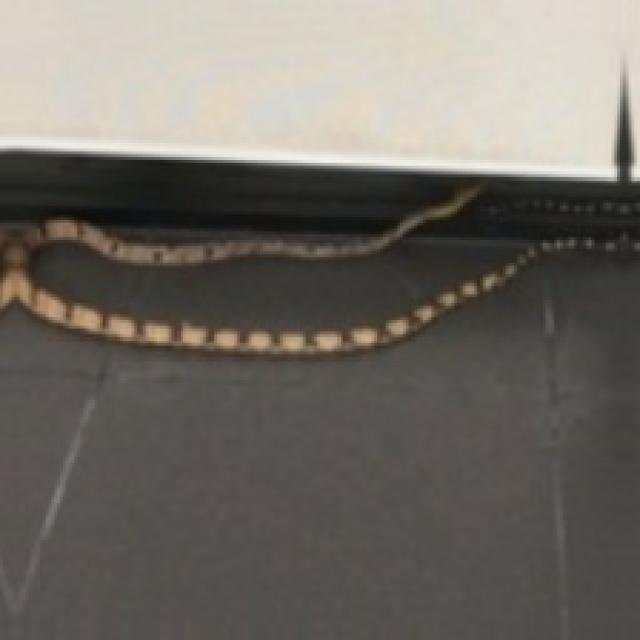dog-toothed cat snake: (0, 183, 637, 354)
